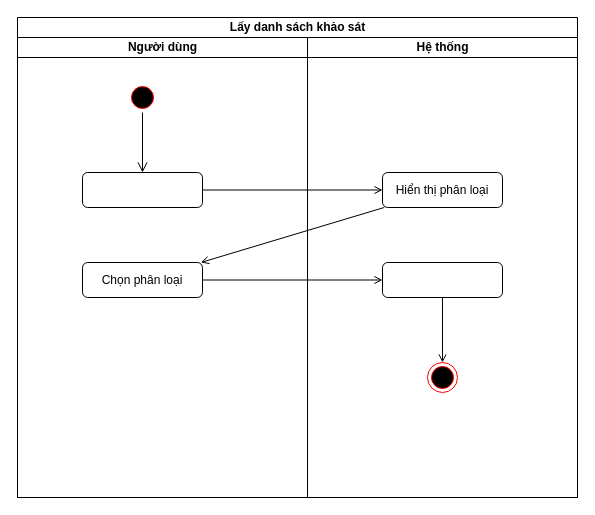
The diagram is 595 pixels wide and 515 high, and some of its shapes have lost their labels. Each missing label, with the centre of its shape:
"Chọn chức năng Khảo sat" goes at point (142, 190).
"Hiển thị danh sách khảo sát" goes at point (442, 280).
